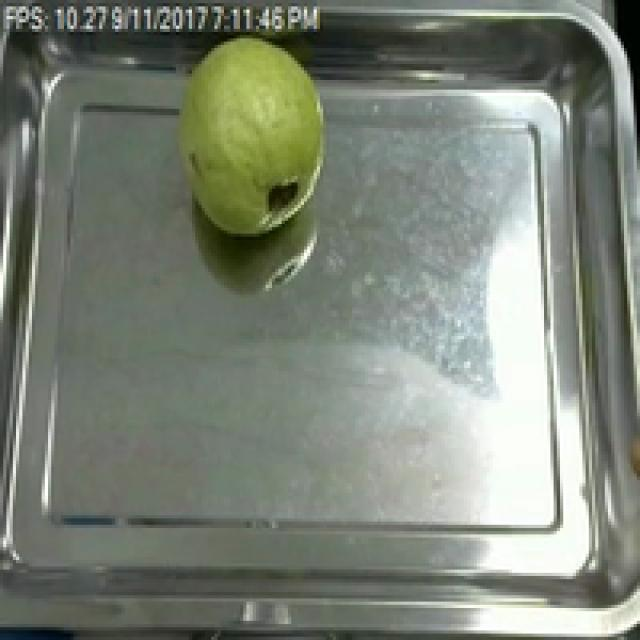Fruit: (166, 25, 336, 246)
